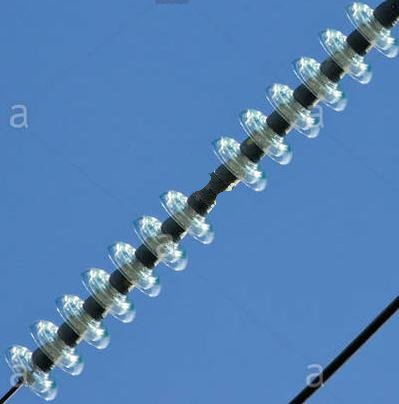gap: (157, 134, 269, 247)
